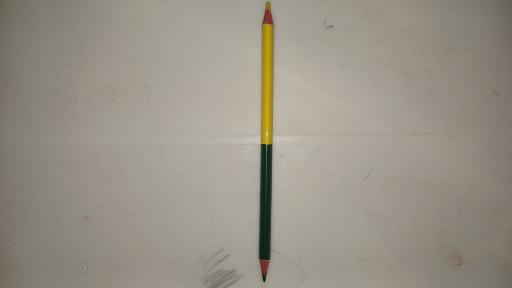Pencil: (258, 1, 275, 280)
